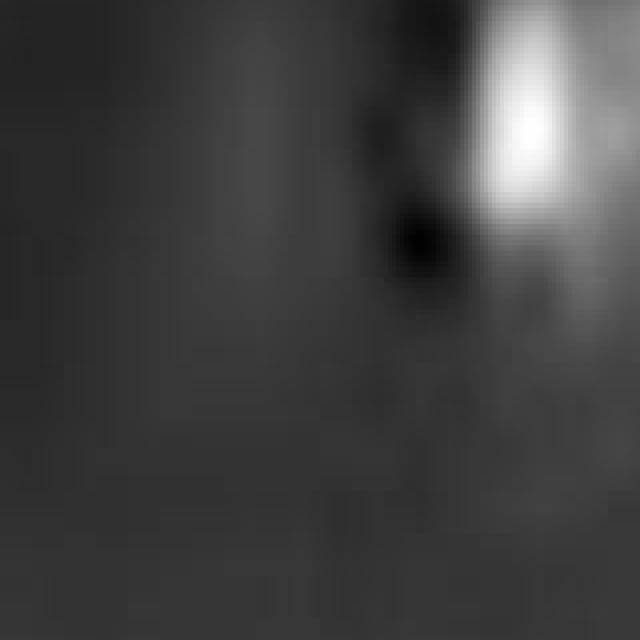person: (433, 1, 597, 321)
